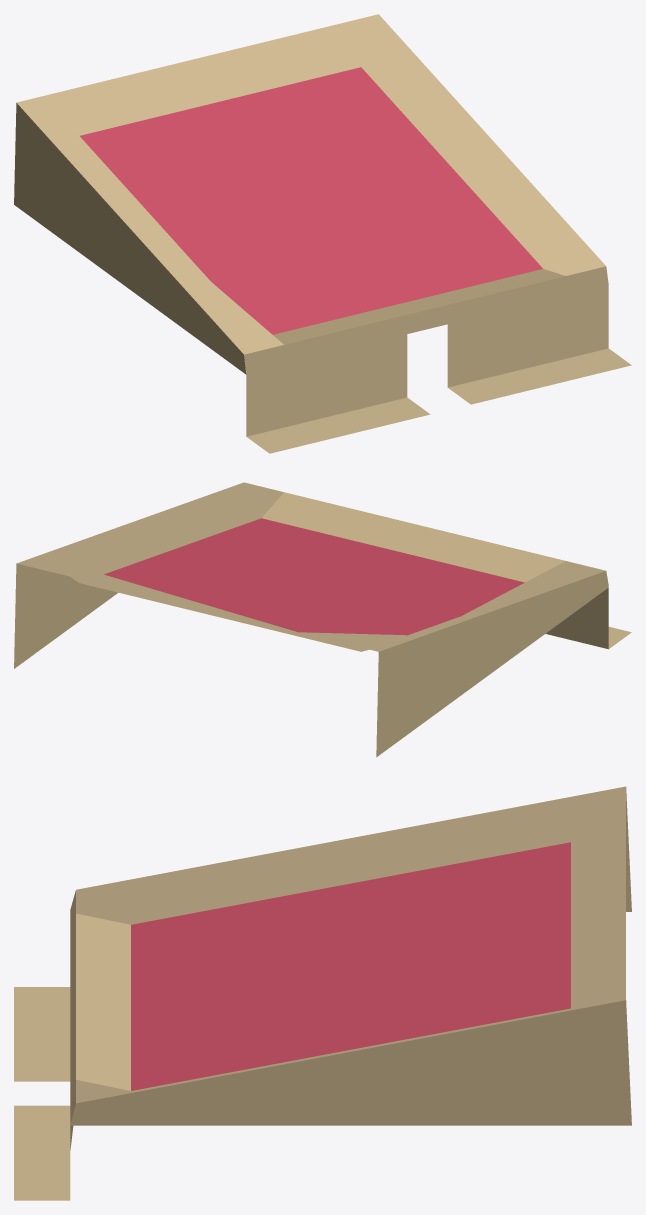
Rendered from InfoDesk.fbx.
3 views of the same model, one above another, from view 1: azimuth 30°, elevation 25°; view 2: azimuth 150°, elevation 25°; view 3: azimuth 270°, elevation 25° (orthographic). The views are drawn at different scales.
Visible parts, largest first — view 1: Plane.001; view 2: Plane.001; view 3: Plane.001.
Part boxes in pixels (x1,y1,x2,y2): Plane.001: [14, 14, 631, 453]; Plane.001: [14, 482, 631, 757]; Plane.001: [14, 786, 631, 1200].
Size of the model in its own units: 491 by 215 by 600.
